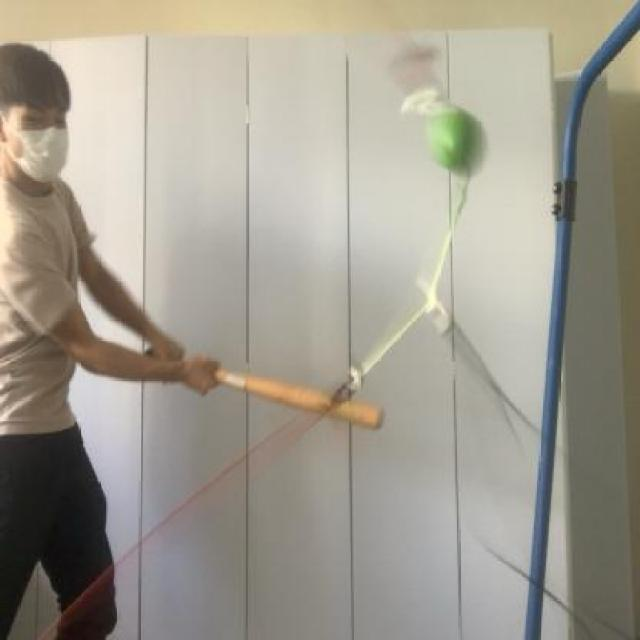baseball: (413, 94, 492, 183)
